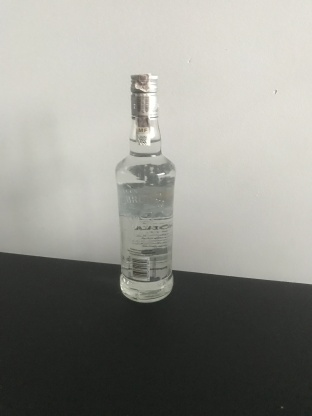nakretka: (128, 72, 160, 122)
